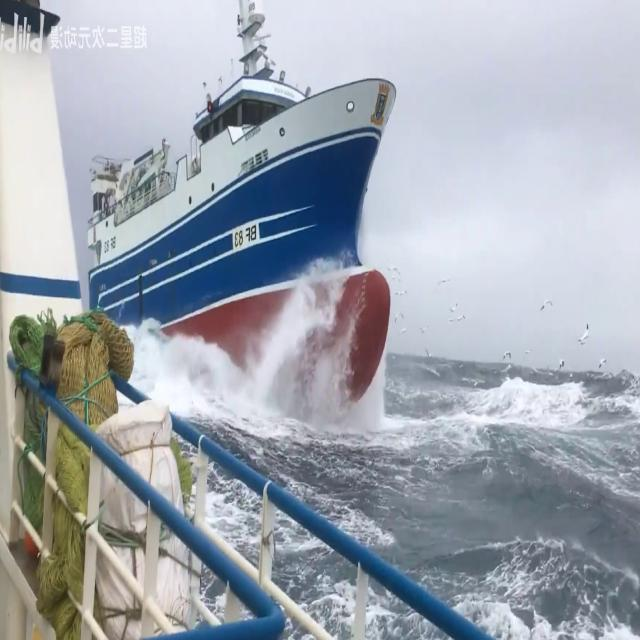navalvessels: (89, 0, 423, 420)
